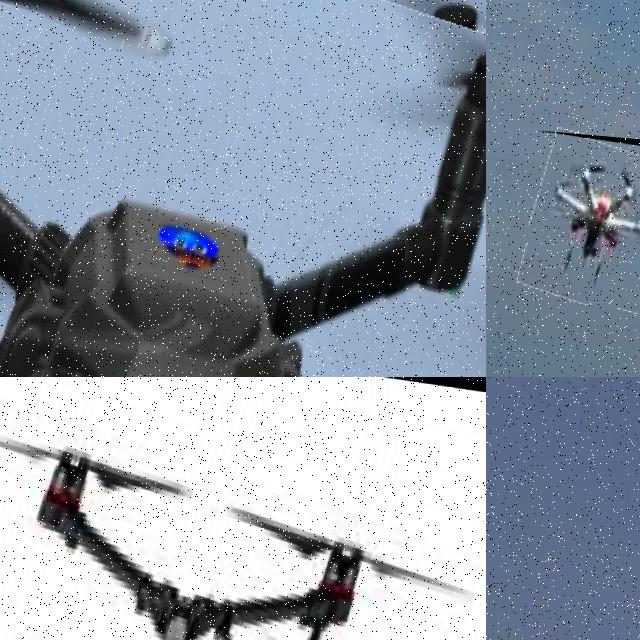drone: (0, 0, 486, 377), (0, 377, 486, 640), (521, 130, 640, 313)
